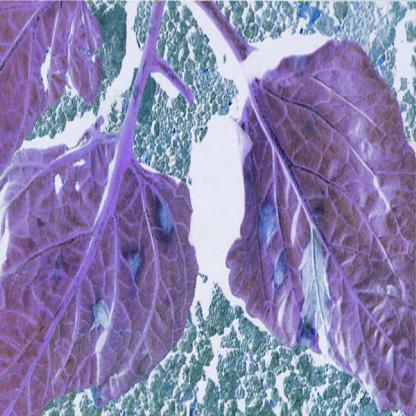Tomato mold leaf: (223, 42, 415, 392), (1, 138, 198, 400)
